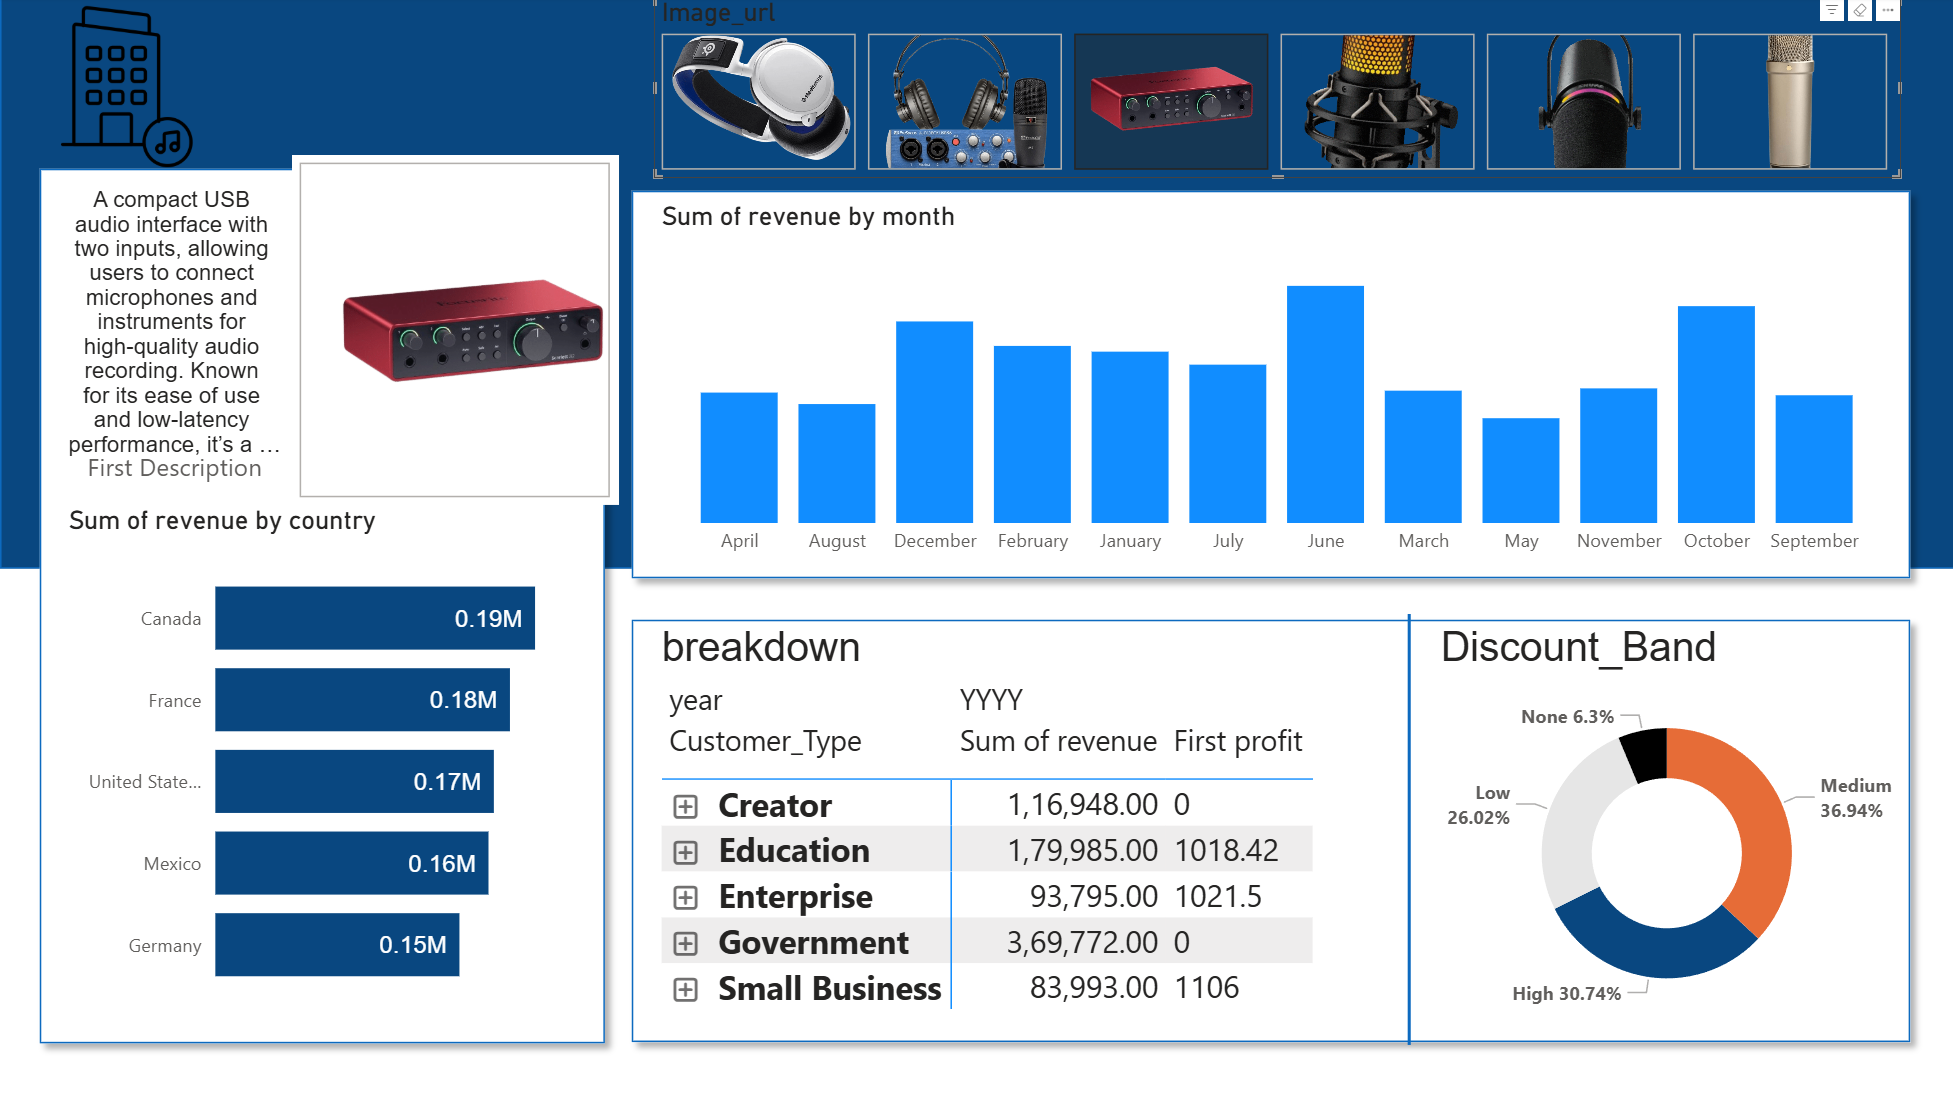

Layout of this report page (visuals, bound fields, positions):
{"tool":"powerbi","page":{"name":"Page 1","canvas":[1280,720],"ordinal":0},"visuals":[{"type":"shape","box":[0,0,1280,374.1],"z":0},{"type":"shape","box":[17.2,103.2,387.8,590.3],"z":1000},{"type":"shape","box":[404.5,398.8,854.6,294.4],"z":2000},{"type":"shape","box":[404.5,117.7,854.6,271.6],"z":3000},{"type":"image","box":[17.1,0,132.9,117.7],"z":4000},{"type":"advancedSlicerVisual","fields":{"Values":["Query1.Image_url"]},"box":[427.9,0,815.8,118.4],"z":5000},{"type":"cardVisual","fields":{"Data":["Min(Query1.Image_url)"]},"box":[184.5,110.6,214,229],"z":6000},{"type":"card","fields":{"Values":["Min(Query1.Description)"]},"box":[38.2,103.2,152.8,229.3],"z":7000},{"type":"clusteredBarChart","fields":{"Category":["Query1.country"],"Y":["Sum(Query1.revenue)"]},"box":[40.1,332.4,351.5,336.2],"z":8000},{"type":"columnChart","fields":{"Category":["Query1.month","Query1.date.Variation.Date Hierarchy.Year","Query1.date.Variation.Date Hierarchy.Quarter","Query1.date.Variation.Date Hierarchy.Month","Query1.date.Variation.Date Hierarchy.Day"],"Y":["Sum(Query1.revenue)"]},"box":[427.9,133.7,815.8,240.7],"z":9000},{"type":"donutChart","title":" Discount_Band","fields":{"Category":["Query1.Discount_Band"],"Y":["Sum(Query1.revenue)"]},"box":[938,410,306,270],"z":10000},{"type":"pivotTable","title":"breakdown","fields":{"Rows":["Query1.Customer_Type","Query1.Product"],"Columns":["Query1.year"],"Values":["Sum(Query1.revenue)","Min(Query1.profit)"]},"box":[428,410,494,270],"z":11000},{"type":"shape","box":[772,404,300,282],"z":12000}]}

Visuals, with their boxes in screenshot pixels (x1, y1, x2, y2), scaled from the page's 1280x720 canvas onto the 1953x1096 screenshot:
shape: [x1=0, y1=0, x2=1952, y2=569]
shape: [x1=26, y1=157, x2=618, y2=1056]
shape: [x1=617, y1=607, x2=1921, y2=1055]
shape: [x1=617, y1=179, x2=1921, y2=593]
image: [x1=26, y1=0, x2=229, y2=179]
advancedSlicerVisual - Query1.Image_url: [x1=653, y1=0, x2=1898, y2=180]
cardVisual - Min(Query1.Image_url): [x1=282, y1=168, x2=608, y2=517]
card - Min(Query1.Description): [x1=58, y1=157, x2=291, y2=506]
clusteredBarChart - Query1.country x Sum(Query1.revenue): [x1=61, y1=506, x2=597, y2=1018]
columnChart - Query1.month x Query1.date.Variation.Date Hierarchy.Year: [x1=653, y1=204, x2=1898, y2=570]
" Discount_Band" donutChart: [x1=1431, y1=624, x2=1898, y2=1035]
"breakdown" pivotTable: [x1=653, y1=624, x2=1407, y2=1035]
shape: [x1=1178, y1=615, x2=1636, y2=1044]
